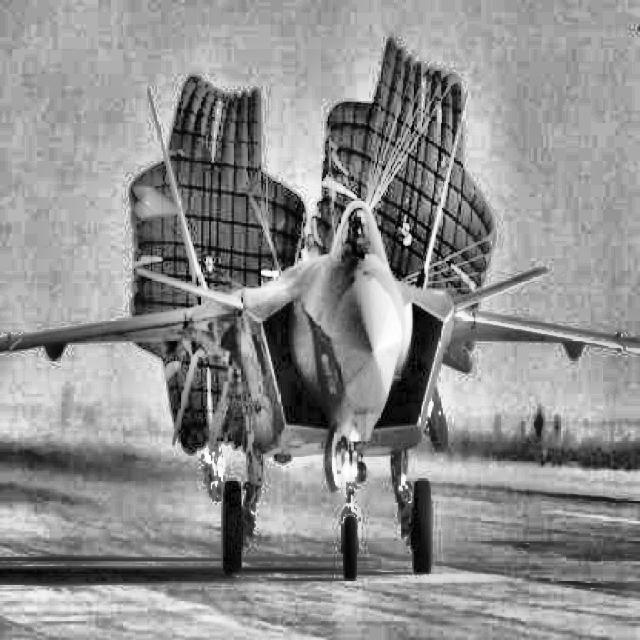J20: (0, 88, 640, 580)
